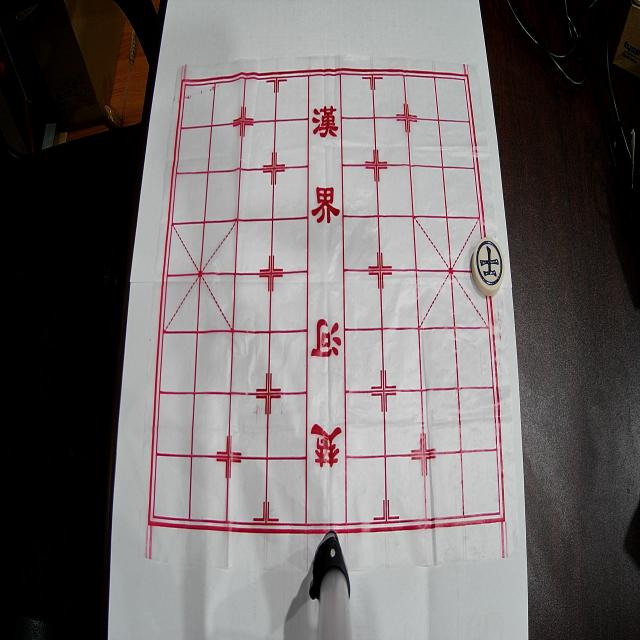black-guard: (472, 237, 504, 295)
